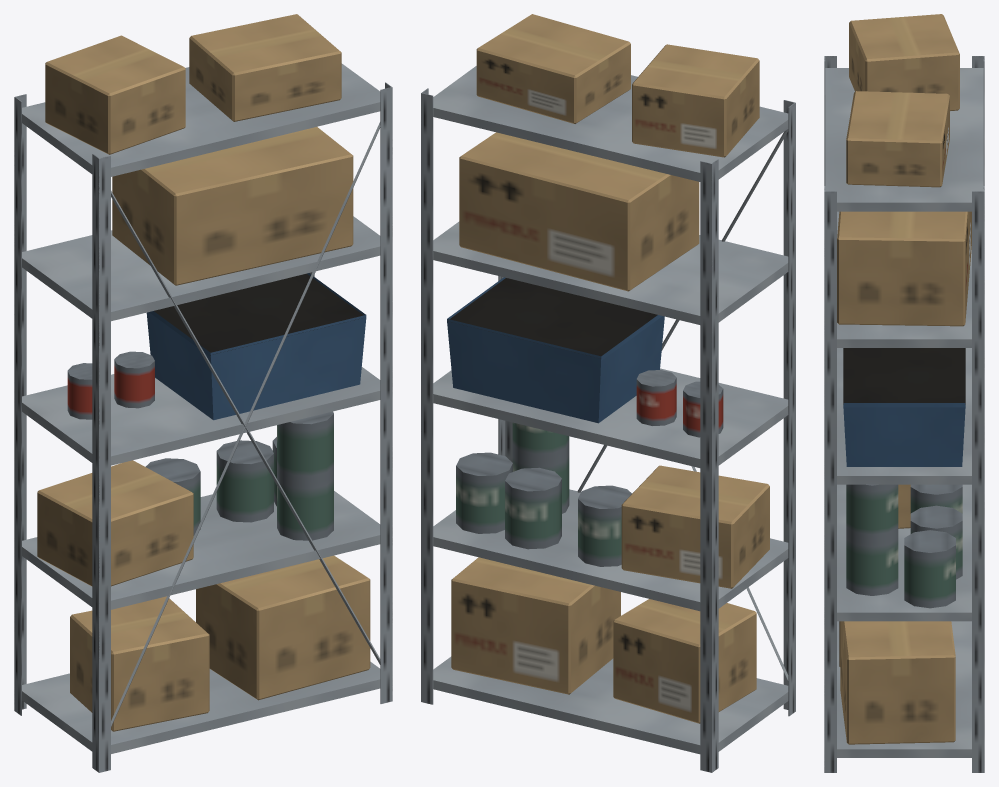
File: shelving_steel.fbx
3 views of the same model, side by side, from view 1: azimuth 30°, elevation 25°; view 2: azimuth 150°, elevation 25°; view 3: azimuth 270°, elevation 25° (orthographic). The views are drawn at different scales.
Parts seen in each view (by area): view 1: shelving_steel; view 2: shelving_steel; view 3: shelving_steel.
Boxes of the visible parts, left/top/right/bottom form: shelving_steel: left=14, top=14, right=392, bottom=772; shelving_steel: left=421, top=14, right=795, bottom=772; shelving_steel: left=824, top=14, right=984, bottom=772.
Bounding box in the file's own units: 1 × 2.16 × 0.5.
Materials: 1 (1 with a texture image).
